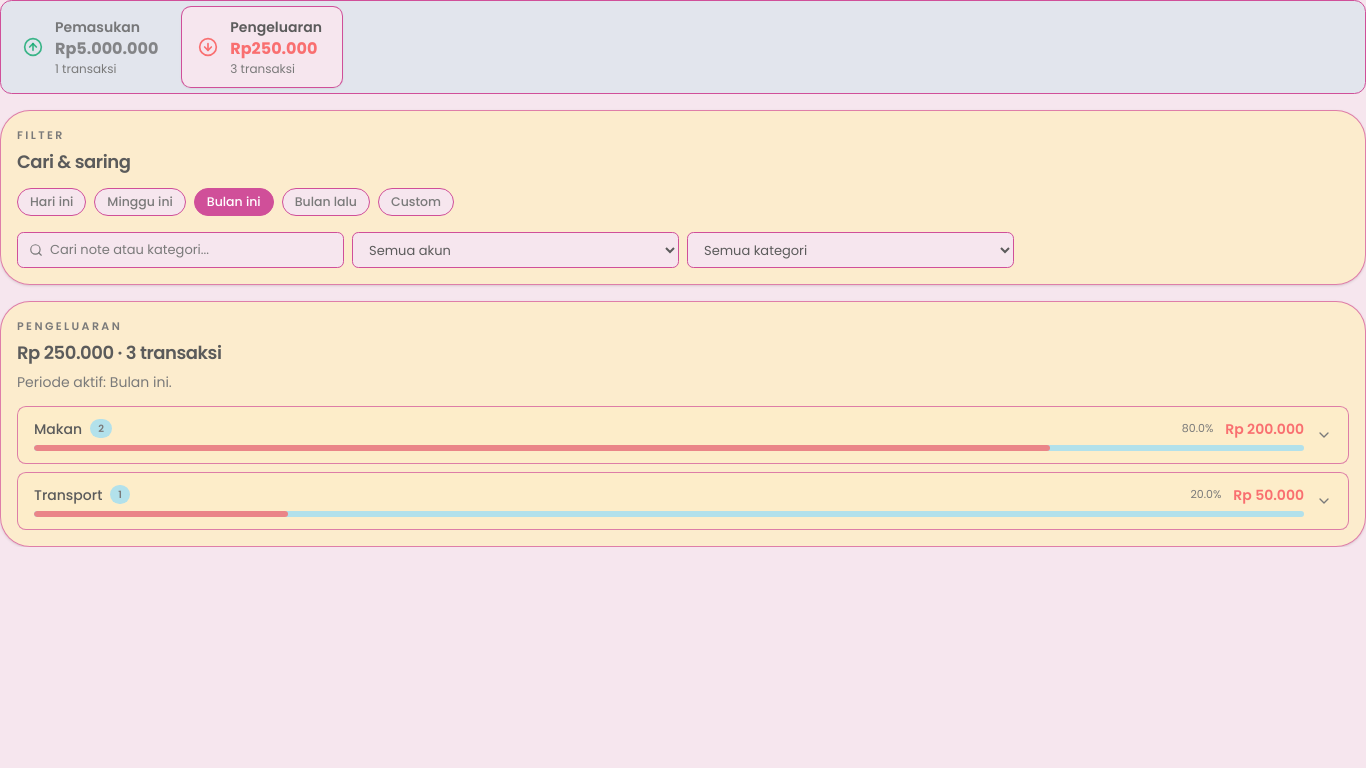
DetailsClient (integration) › clicking Pemasukan tab swaps to incomeGroups without firing a new /api/record request
Check: the button "Makan 2 80.0% Rp 200.000" is shown, box [17,406,1349,464]
Step 1. Click the tab "Pemasukan Rp5.000.000 1 transaksi" → (91, 47), box [7,7,174,87]
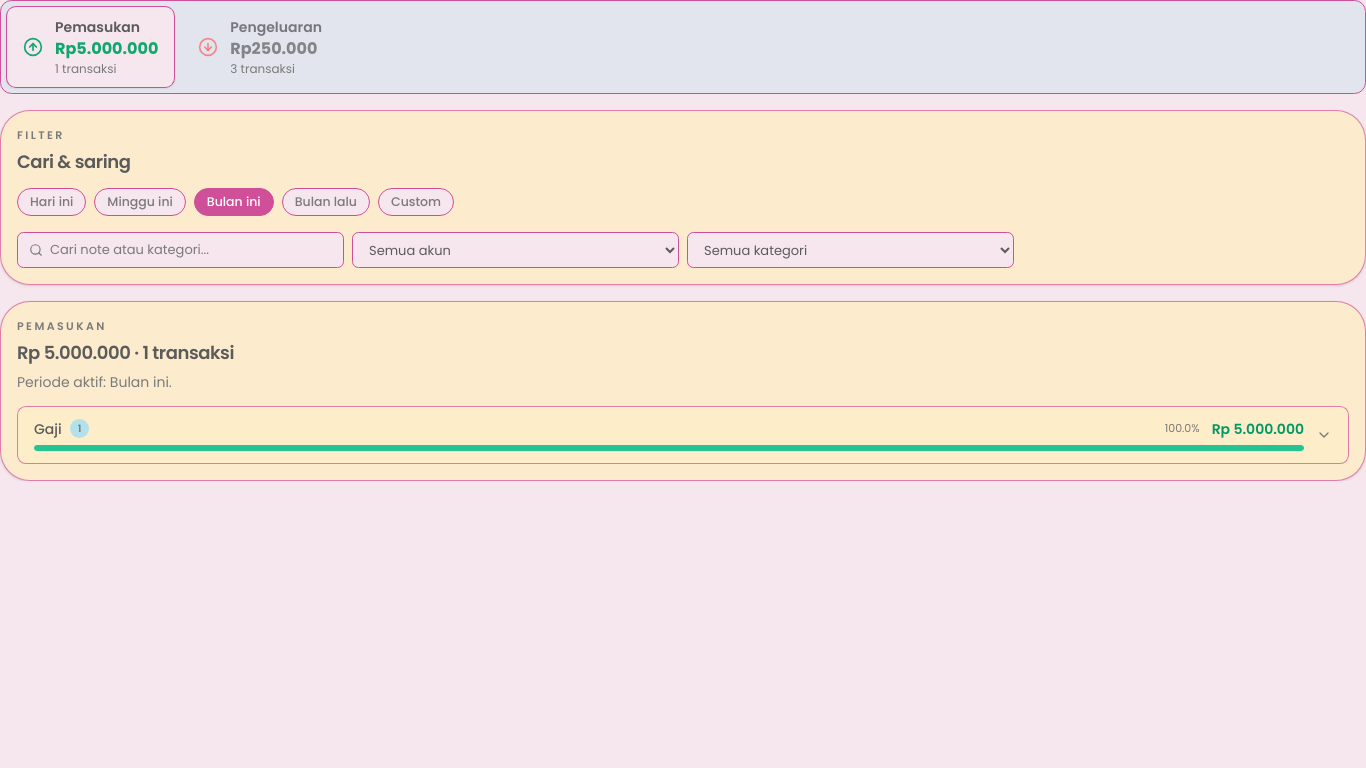
Check: the button "Gaji 1 100.0% Rp 5.000.000" is shown, box [17,406,1349,464]
Check: the button "Makan" is gone
